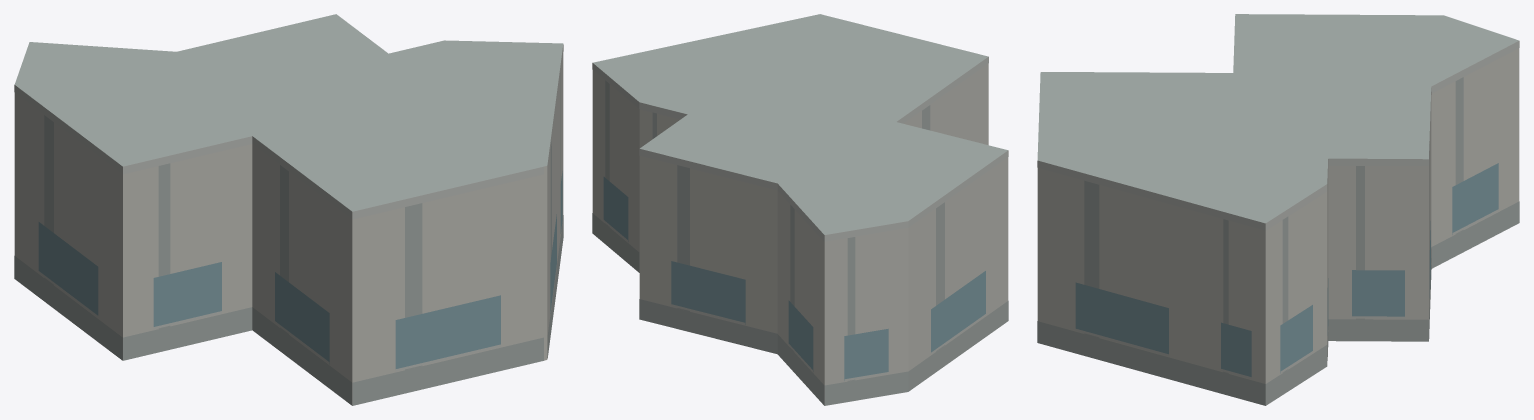
The model's file is survey-upis-33000492.glb.
3 views of the same model, side by side, from view 1: azimuth 30°, elevation 25°; view 2: azimuth 150°, elevation 25°; view 3: azimuth 270°, elevation 25° (orthographic). The views are drawn at different scales.
Parts seen in each view (by area): view 1: survey-upis-33000492.tmp; view 2: survey-upis-33000492.tmp; view 3: survey-upis-33000492.tmp.
Part boxes in pixels (box(x1,y1,x2,y2)): survey-upis-33000492.tmp: box(14, 14, 563, 405); survey-upis-33000492.tmp: box(592, 14, 1008, 405); survey-upis-33000492.tmp: box(1037, 14, 1519, 405).
Bounding box in the file's own units: 15.03 × 6.1 × 14.61.
